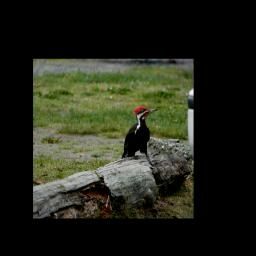Woodpecker: (121, 103, 158, 162)
